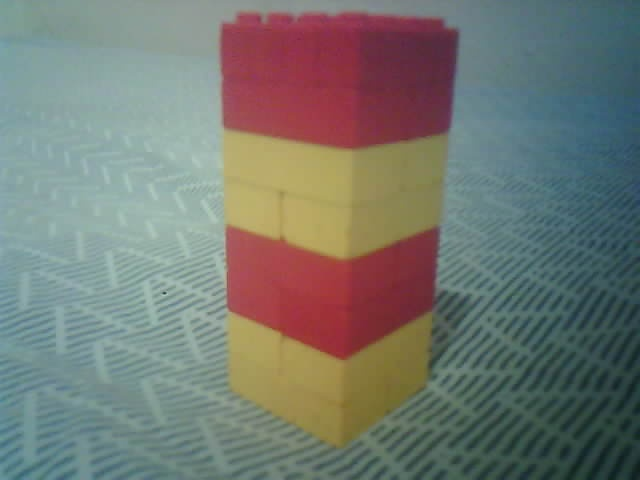lego: (216, 9, 462, 448)
